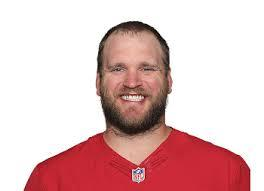Persons: (90, 19, 182, 137)
